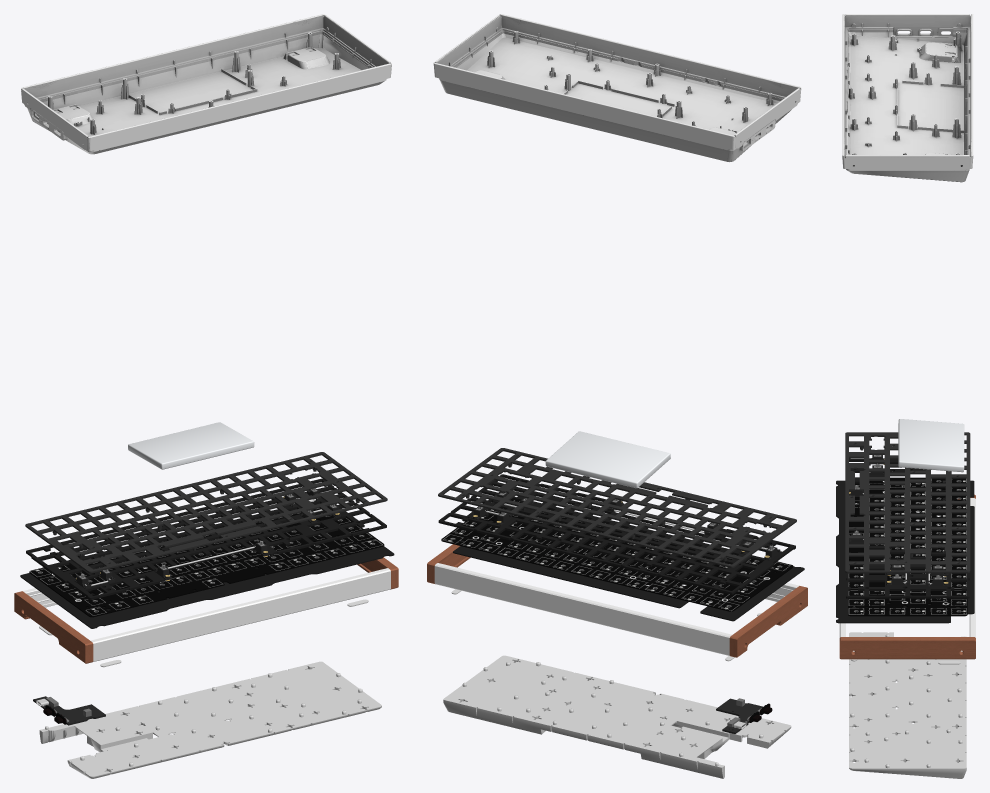
File: Keyboard.glb
3 renders of one model, left to right at view 1: azimuth 30°, elevation 25°; view 2: azimuth 150°, elevation 25°; view 3: azimuth 270°, elevation 25°, orthographic. The views are drawn at different scales.
Visible parts, largest first — view 1: bottomCase, siliconeAcousticPad, plate, pcb, plateFoam, topCaseB, foam, battery, topCaseL, stablizer, misc; view 2: bottomCase, siliconeAcousticPad, plate, pcb, plateFoam, topCaseF, battery, foam, topCaseL, stablizer, misc; view 3: bottomCase, siliconeAcousticPad, plate, pcb, plateFoam, battery, foam, topCaseR, stablizer, topCaseF.
Boxes of the visible parts, x1,y1,x2,y2 form: bottomCase: (21, 14, 391, 154); siliconeAcousticPad: (39, 661, 381, 778); plate: (25, 452, 387, 573); pcb: (29, 501, 384, 617); plateFoam: (26, 478, 386, 599); topCaseB: (90, 568, 390, 661); foam: (20, 520, 394, 628); battery: (128, 422, 254, 469); topCaseL: (14, 591, 93, 663); stablizer: (74, 488, 341, 592); misc: (33, 696, 105, 725); bottomCase: (433, 14, 801, 162); siliconeAcousticPad: (443, 655, 791, 778); plate: (438, 448, 796, 567); pcb: (441, 499, 792, 611); plateFoam: (438, 474, 795, 594); topCaseF: (434, 563, 732, 655); battery: (545, 431, 670, 488); foam: (451, 501, 804, 621); topCaseL: (729, 586, 807, 657); stablizer: (471, 492, 780, 560); misc: (716, 698, 772, 733); bottomCase: (842, 14, 973, 182); siliconeAcousticPad: (849, 632, 966, 778); plate: (845, 432, 970, 573); pcb: (848, 477, 967, 616); plateFoam: (846, 458, 969, 598); battery: (898, 419, 964, 472); foam: (836, 480, 974, 623); topCaseR: (839, 637, 975, 659); stablizer: (849, 455, 948, 586); topCaseF: (969, 498, 975, 637).
Size of what is drawn, in the model's own units: 32.05 by 64.13 by 12.95.
Materials: 12 (5 with a texture image).
